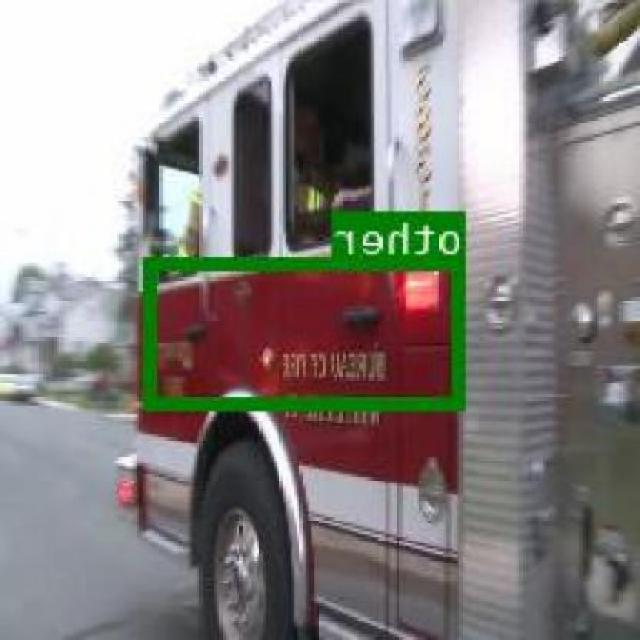other: (148, 255, 467, 408)
